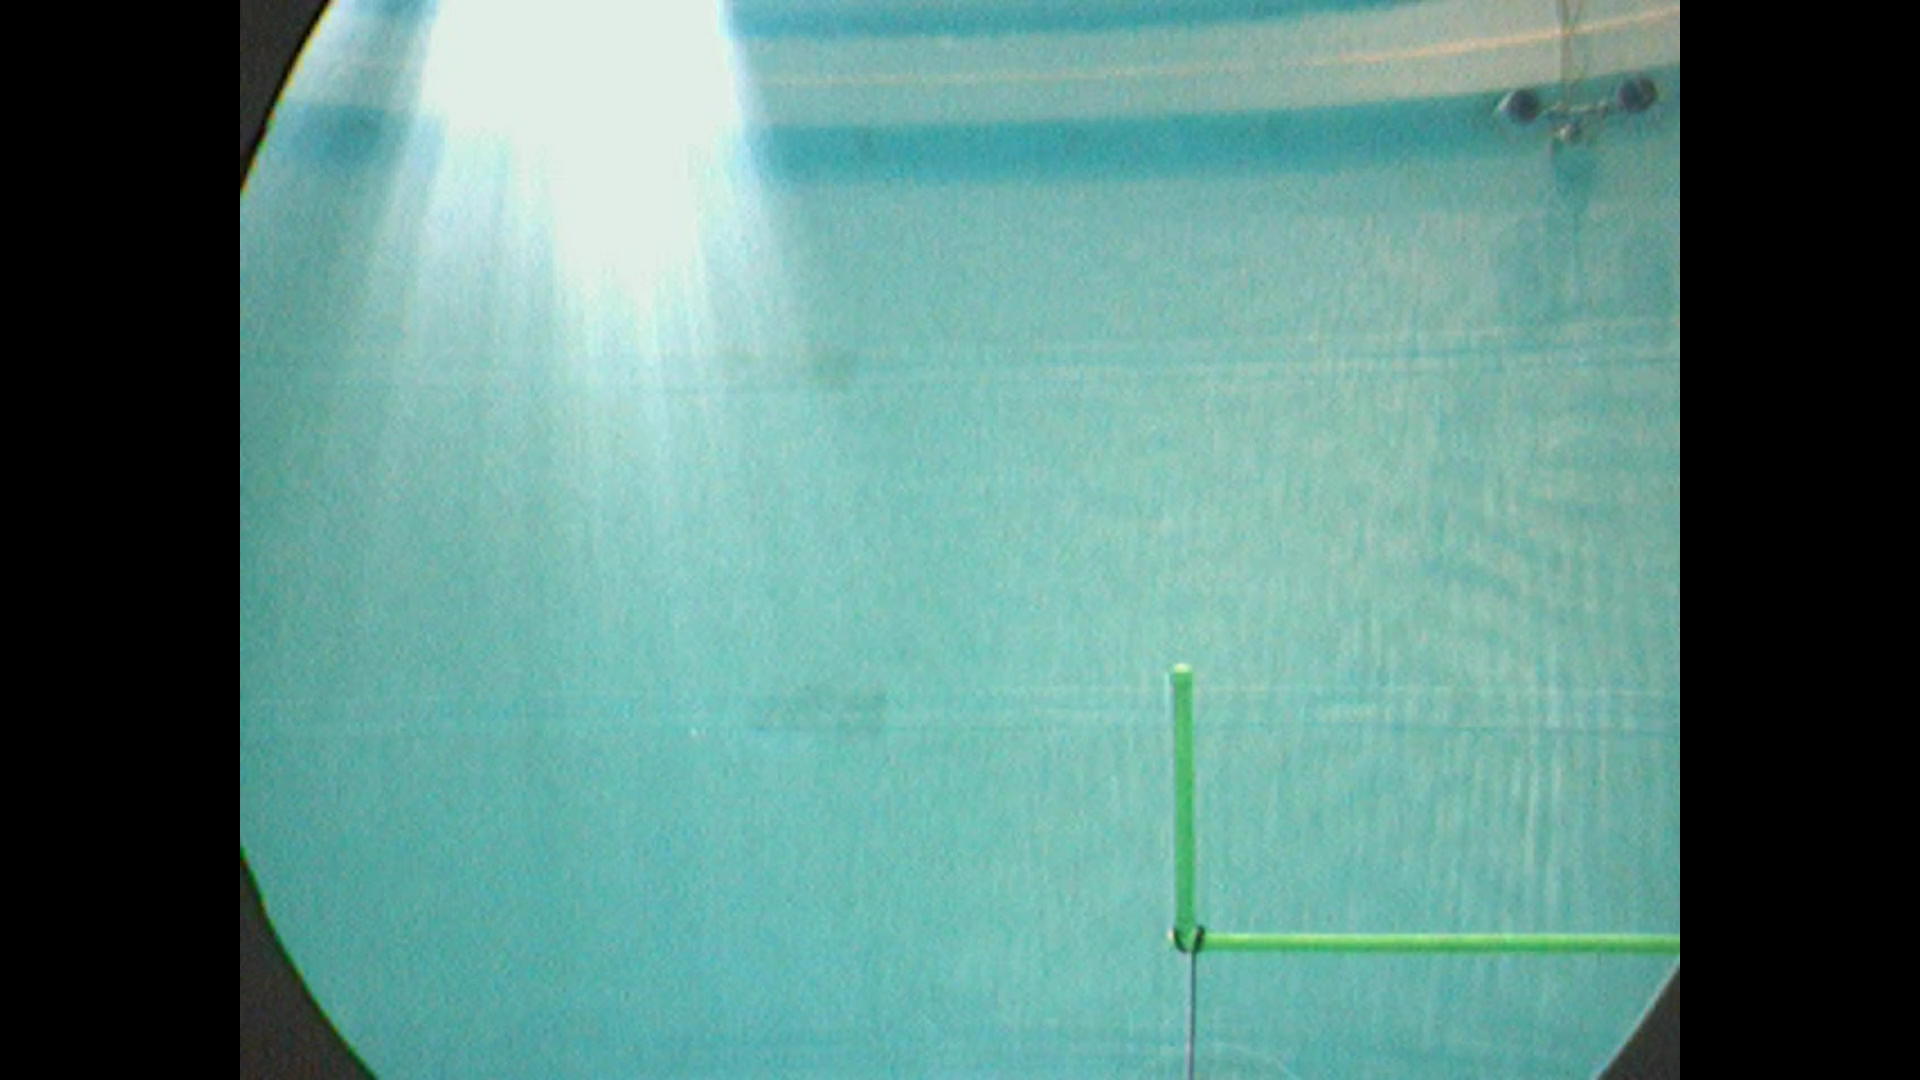gate: (1167, 657, 1683, 960)
